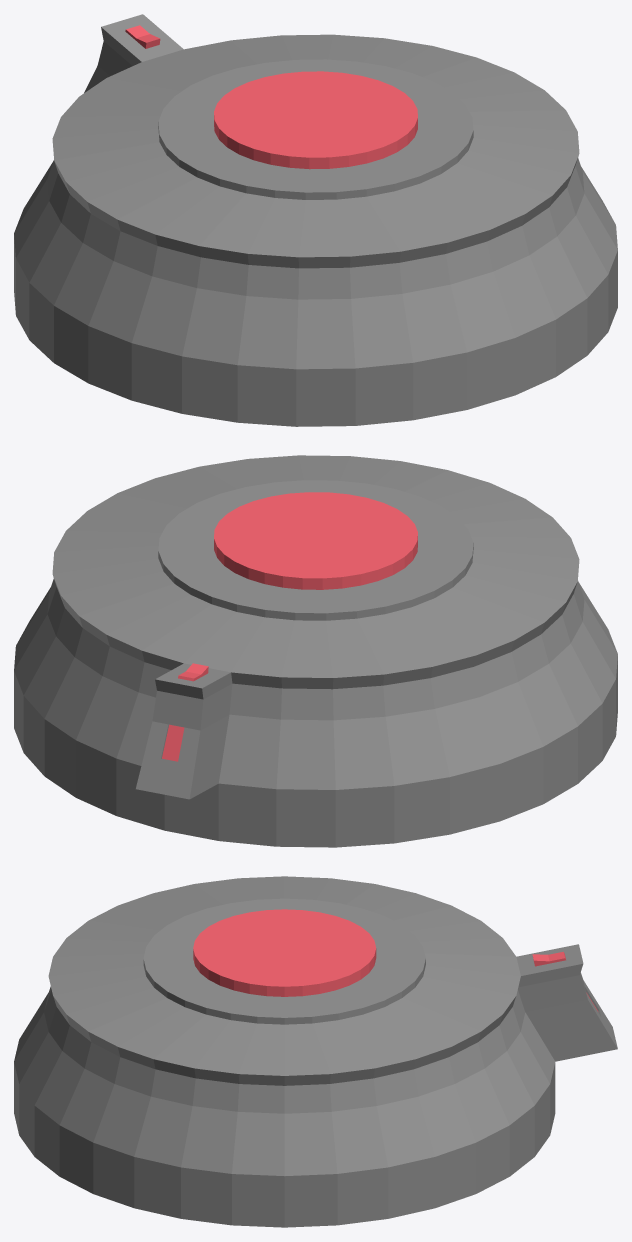
Rendered from HologramProjector.fbx.
The picture shows the model from 3 angles, top to bottom: view 1: azimuth 30°, elevation 25°; view 2: azimuth 150°, elevation 25°; view 3: azimuth 270°, elevation 25°; orthographic projection. The views are drawn at different scales.
Visible parts, largest first — view 1: Hologram Projector; view 2: Hologram Projector; view 3: Hologram Projector.
Boxes of the visible parts, bbox=[...] form: Hologram Projector: bbox=[14, 14, 617, 426]; Hologram Projector: bbox=[14, 455, 617, 847]; Hologram Projector: bbox=[14, 876, 617, 1227].
Size of the model in its own units: 200 by 67.32 by 223.
